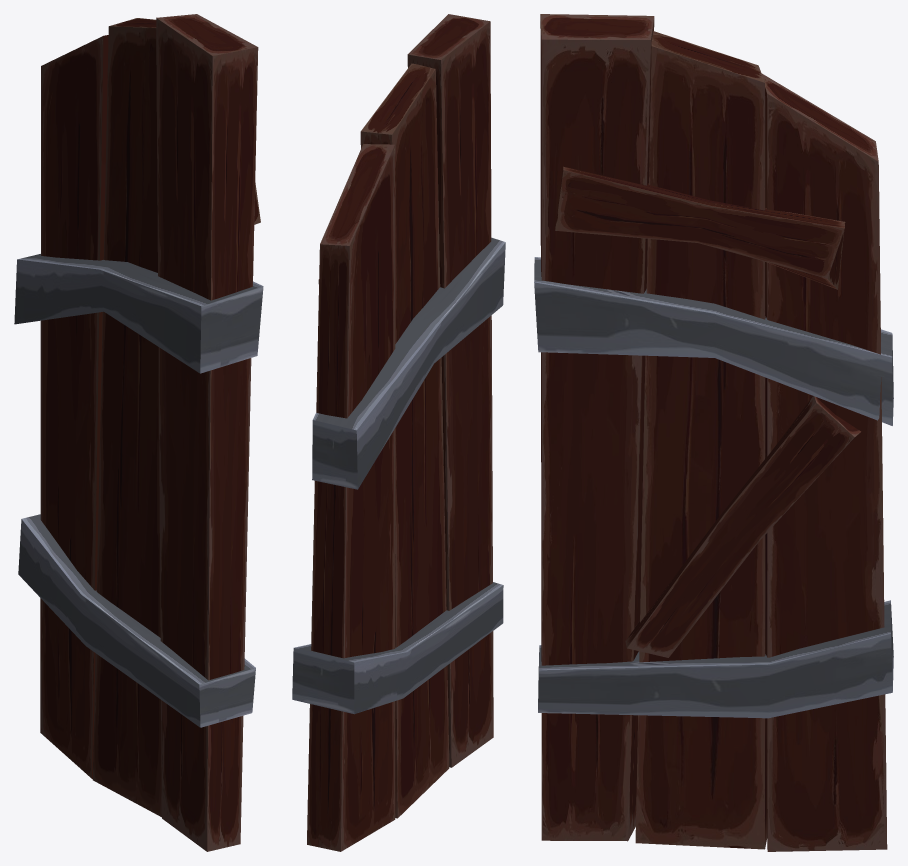
Rendered from SM_PROP_wall_wood_gate_door_R_01.glb.
3 views of the same model, side by side, from view 1: azimuth 30°, elevation 25°; view 2: azimuth 150°, elevation 25°; view 3: azimuth 270°, elevation 25° (orthographic). The views are drawn at different scales.
Visible parts, largest first — view 1: SM_PROP_wall_wood_gate_door_R_01_EXPORT; view 2: SM_PROP_wall_wood_gate_door_R_01_EXPORT; view 3: SM_PROP_wall_wood_gate_door_R_01_EXPORT.
Boxes of the visible parts, bbox=[...] form: SM_PROP_wall_wood_gate_door_R_01_EXPORT: bbox=[14, 14, 263, 851]; SM_PROP_wall_wood_gate_door_R_01_EXPORT: bbox=[292, 14, 505, 851]; SM_PROP_wall_wood_gate_door_R_01_EXPORT: bbox=[534, 14, 893, 851].
Size of the model in its own units: 0.5969 by 5.51 by 2.19.
2 materials, 2 textured.
